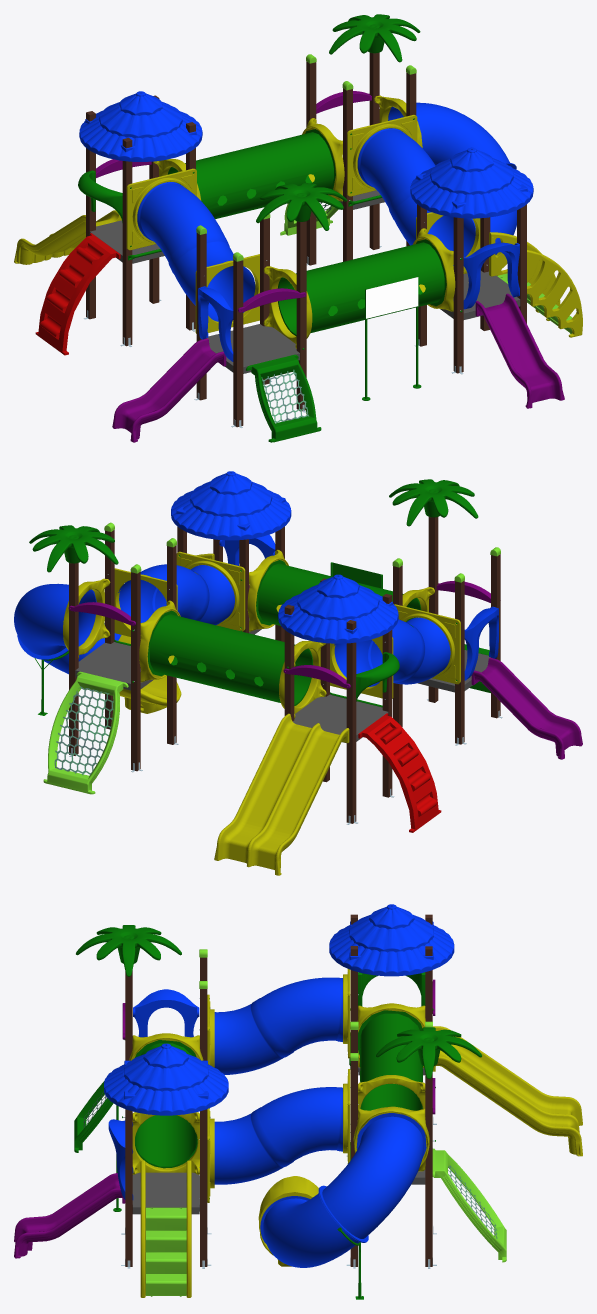
3 views of the same model, one above another, from view 1: azimuth 30°, elevation 25°; view 2: azimuth 150°, elevation 25°; view 3: azimuth 270°, elevation 25° (orthographic). The views are drawn at different scales.
Visible parts, largest first — view 1: object 5, TUNEL RETO 2M M3.001, TUNEL DE NIVEL M1.001, TUNEL RETO 2M M3, TUNEL DE NIVEL M1, TOLDO M2, TOLDO M2.001, ESCORREGADOR M5.001, object 28, ESCORREGADOR M5, LATERAL M2, COQUEIRO M1 (+24 smaller); view 2: object 5, TUNEL RETO 2M M3, TUNEL DE NIVEL M1, object 28, TUNEL DE NIVEL M1.001, TOLDO M2, TOLDO M2.001, TUNEL RETO 2M M3.001, ESCORREGADOR M5, object 16, COQUEIRO M1.001, COQUEIRO M1 (+20 smaller); view 3: object 28, TUNEL DE NIVEL M1, object 5, TUNEL DE NIVEL M1.001, TOLDO M2, TOLDO M2.001, object 16, TUNEL RETO 2M M3, TUNEL RETO 2M M3.001, ESCORREGADOR M5.001, COQUEIRO M1, COQUEIRO M1.001 (+11 smaller).
Boxes of the visible parts, x1,y1,x2,y2 form: object 5: (14,95,467,442); TUNEL RETO 2M M3.001: (263,228,455,348); TUNEL DE NIVEL M1.001: (126,168,259,333); TUNEL RETO 2M M3: (153,118,344,219); TUNEL DE NIVEL M1: (347,114,480,270); TOLDO M2: (410,147,533,218); TOLDO M2.001: (79,91,202,161); ESCORREGADOR M5.001: (475,293,564,408); object 28: (319,102,516,254); ESCORREGADOR M5: (112,338,226,442); LATERAL M2: (527,250,582,337); COQUEIRO M1: (256,183,347,230); object 5: (63,578,490,875); TUNEL RETO 2M M3: (139,600,326,718); TUNEL DE NIVEL M1: (114,551,245,639); object 28: (14,583,121,775); TUNEL DE NIVEL M1.001: (330,604,460,698); TOLDO M2: (171,471,291,540); TOLDO M2.001: (278,574,398,643); TUNEL RETO 2M M3.001: (247,549,434,631); ESCORREGADOR M5: (471,657,582,759); object 16: (43,671,128,794); COQUEIRO M1.001: (29,525,118,572); COQUEIRO M1: (389,479,478,526); object 28: (260,1113,497,1299); TUNEL DE NIVEL M1: (207,1069,350,1202); object 5: (74,972,582,1266); TUNEL DE NIVEL M1.001: (207,969,350,1074); TOLDO M2: (104,1043,228,1115); TOLDO M2.001: (329,904,454,976); object 16: (83,1091,506,1296); TUNEL RETO 2M M3: (357,1003,425,1110); TUNEL RETO 2M M3.001: (129,1033,203,1174); ESCORREGADOR M5.001: (14,1173,125,1258); COQUEIRO M1: (76,925,181,976); COQUEIRO M1.001: (376,1027,481,1078).
Size of the model in its own units: 6.87 by 3.16 by 6.94.
27 materials, 2 textured.
